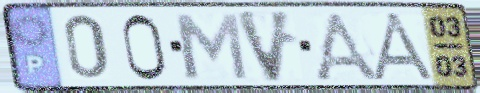0: (61, 11, 113, 83), (119, 11, 170, 83)
A: (310, 9, 385, 84), (369, 10, 441, 82)
M: (170, 11, 252, 82)
V: (232, 7, 296, 85)
